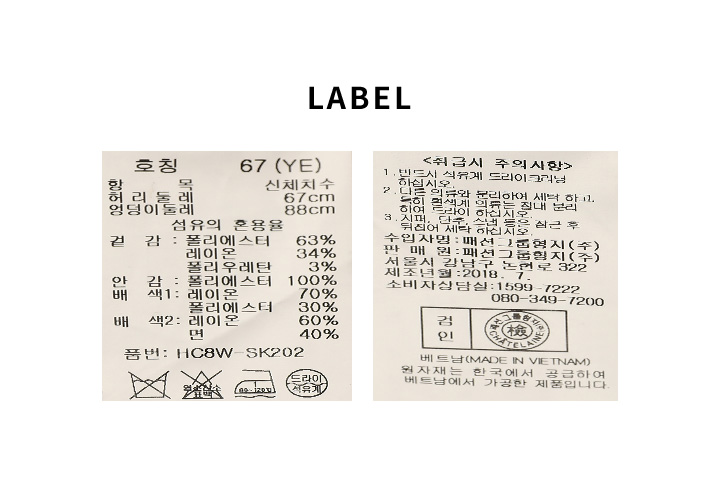KR_dry_clean_petroleum: (282, 364, 331, 400)
KR_iron_low_temp_with_cloth: (231, 364, 280, 401)
KR_no_bleach: (179, 367, 226, 401)
KR_no_wash: (127, 365, 174, 400)
